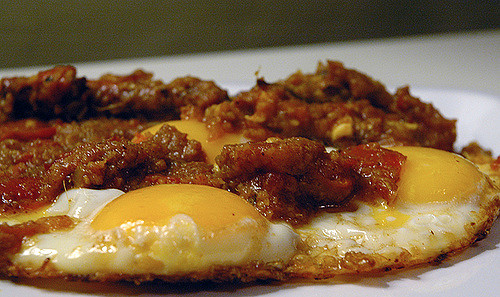fried egg: (53, 172, 477, 265)
